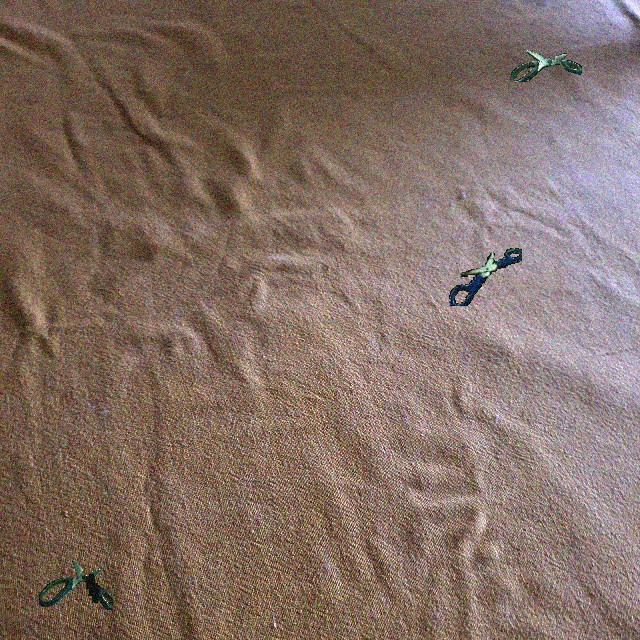scissors: (449, 248, 522, 306), (39, 561, 113, 610), (510, 50, 582, 82)
